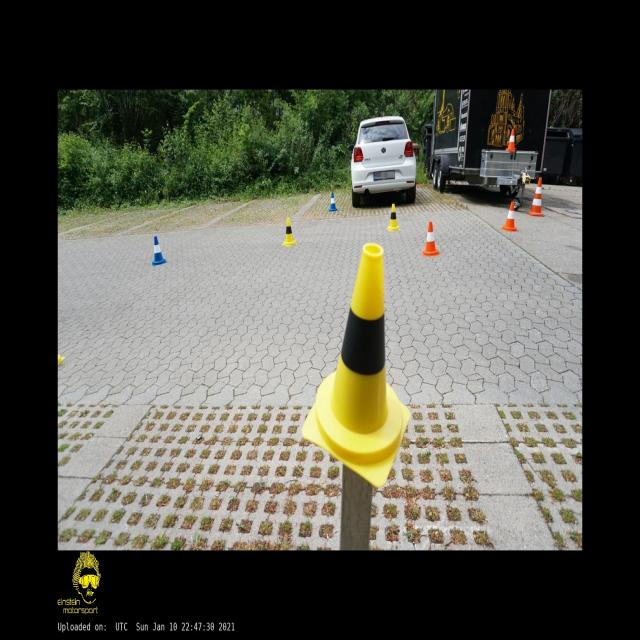blue_cone: (152, 236, 166, 266), (329, 192, 337, 211)
large_orange_cone: (528, 178, 544, 216)
orange_cone: (423, 221, 439, 256), (502, 202, 517, 231), (506, 129, 515, 151)
yellow_cone: (302, 244, 410, 486), (282, 218, 296, 246), (387, 204, 400, 231)
